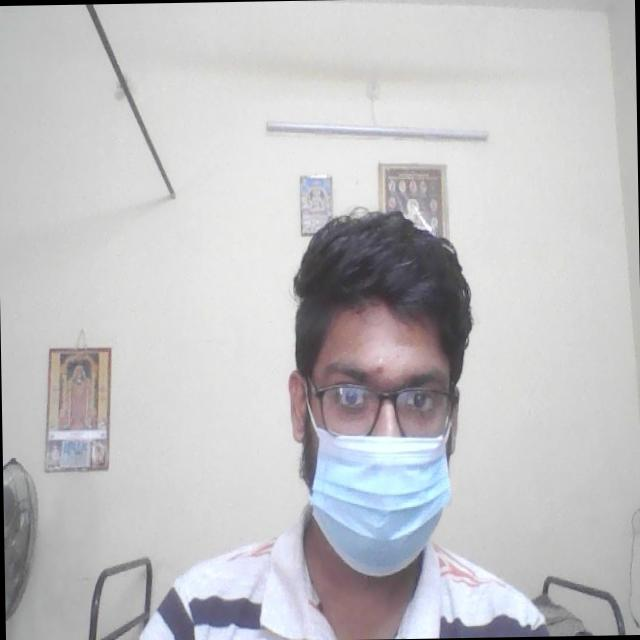Focused: (313, 348, 461, 530)
